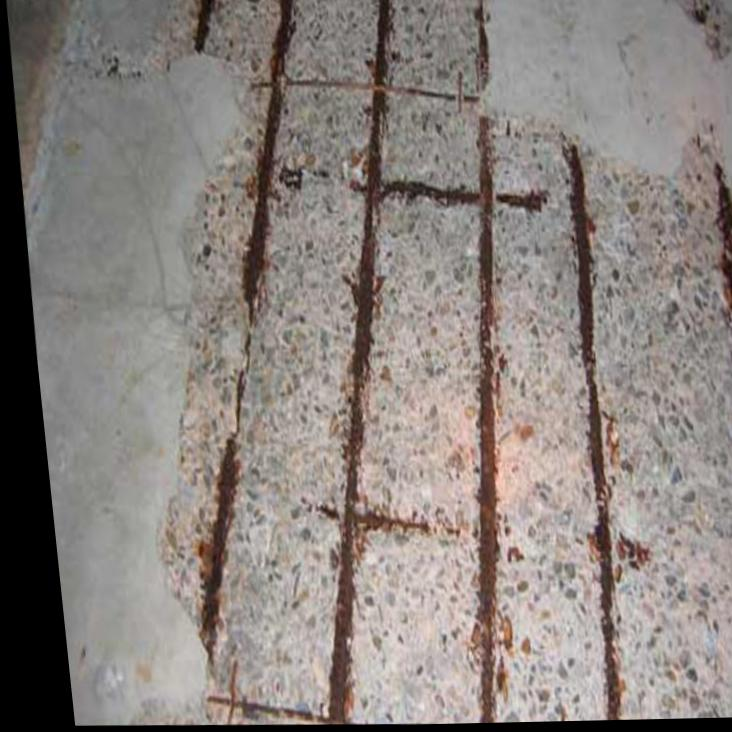damage: (109, 0, 732, 726)
